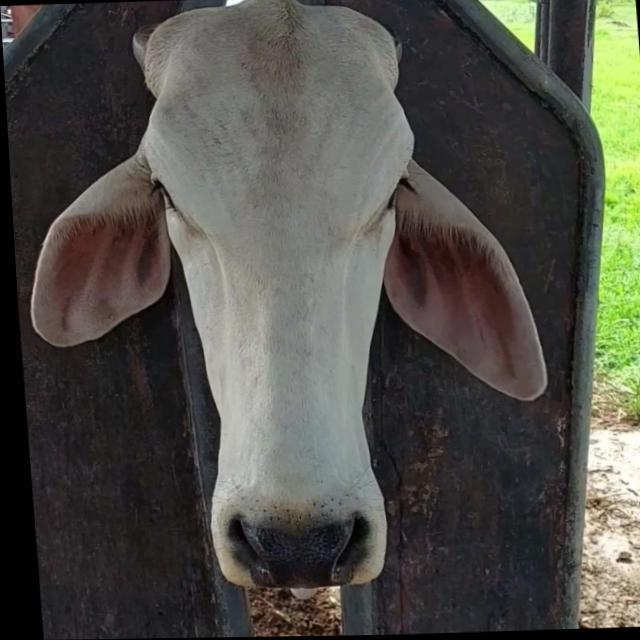cowFace: (147, 6, 436, 585)
